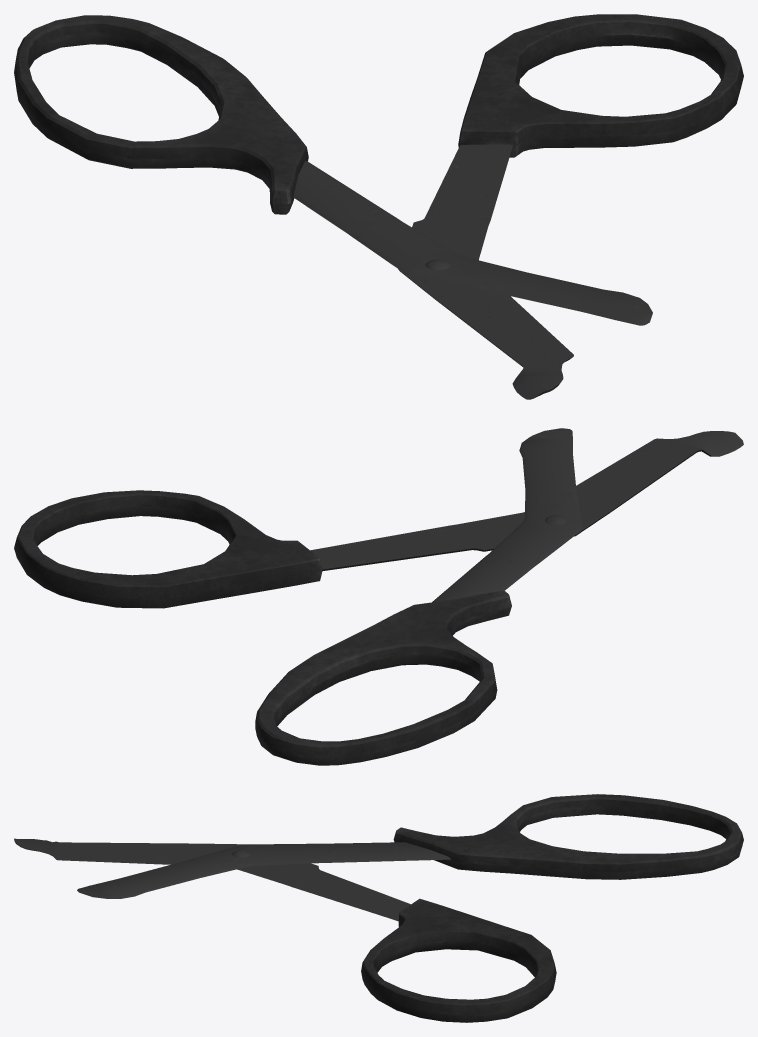
File: ciseaux.glb
3 renders of one model, top to bottom at view 1: azimuth 30°, elevation 25°; view 2: azimuth 150°, elevation 25°; view 3: azimuth 270°, elevation 25°, orthographic. The views are drawn at different scales.
Visible parts, largest first — view 1: ciseaux; view 2: ciseaux; view 3: ciseaux.
Boxes of the visible parts, <box> form: ciseaux: <box>14,14,743,399</box>; ciseaux: <box>14,428,743,765</box>; ciseaux: <box>14,794,743,1022</box>.
Size of the model in its own units: 0.1316 by 0.00544 by 0.19.
Materials: 1 (1 with a texture image).
